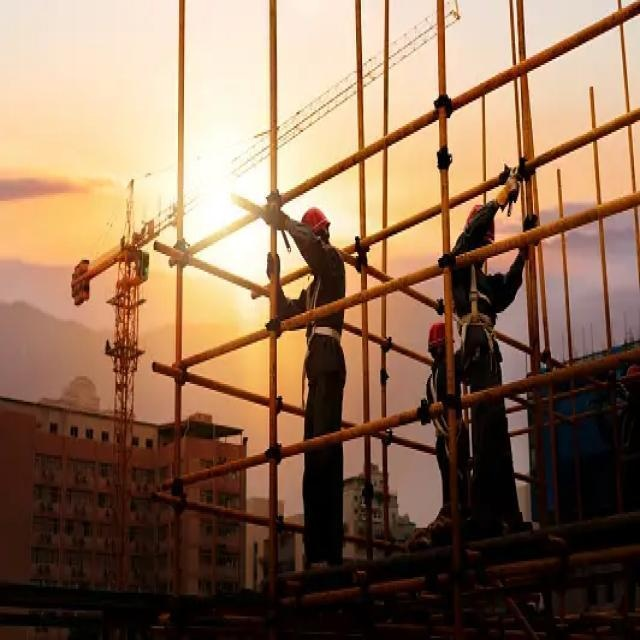Arnes_seguridad: (451, 257, 501, 352), (307, 272, 342, 350), (425, 372, 459, 439)
